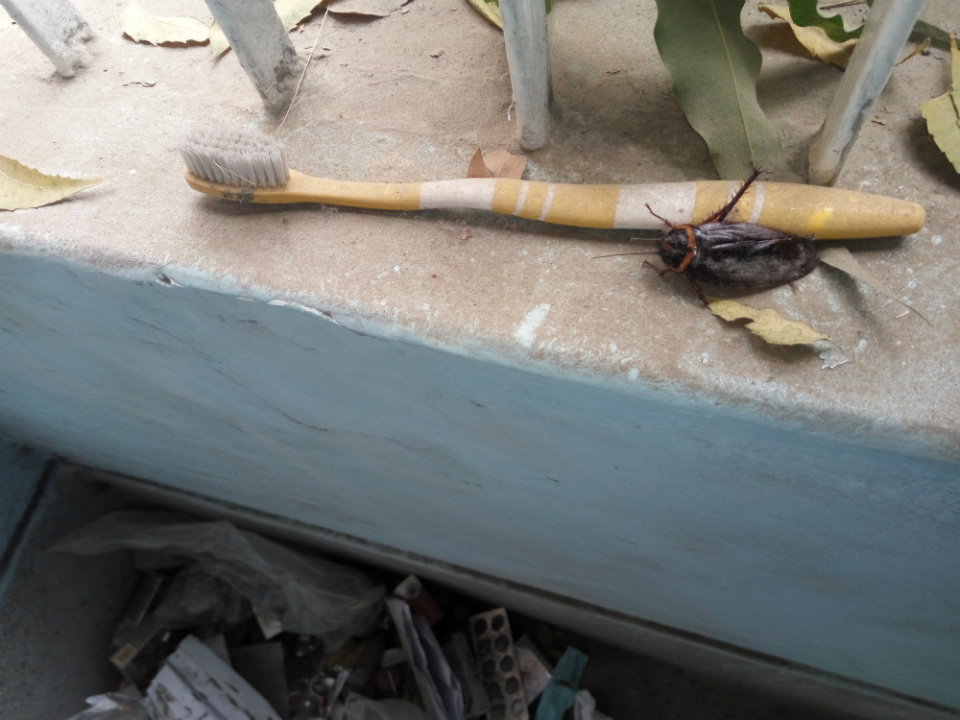cockroach: (568, 173, 847, 312)
